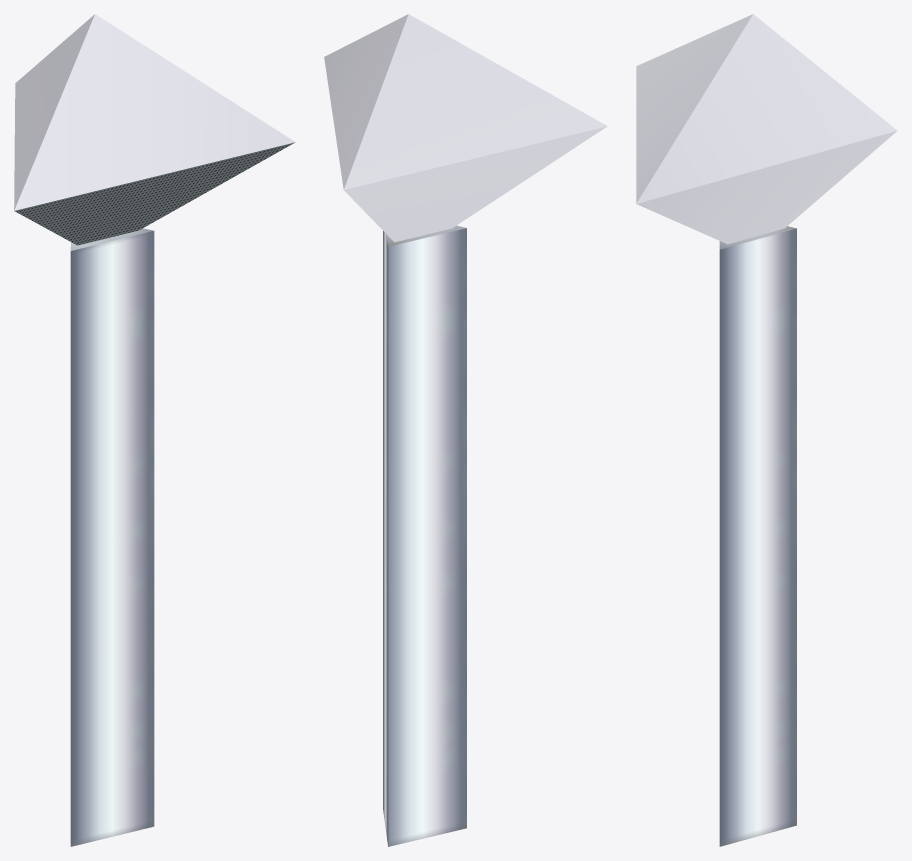
Rendered from LITE_POLE03.glb.
3 renders of one model, left to right at view 1: azimuth 30°, elevation 25°; view 2: azimuth 150°, elevation 25°; view 3: azimuth 270°, elevation 25°, orthographic.
Visible parts, largest first — view 1: LITE_POLE03; view 2: LITE_POLE03; view 3: LITE_POLE03.
Part boxes in pixels (x1,y1,x2,y2): LITE_POLE03: (14,14,295,846); LITE_POLE03: (324,14,607,846); LITE_POLE03: (636,14,897,846).
Size of the model in its own units: 74.22 by 204 by 59.56.
1 material, 1 textured.
